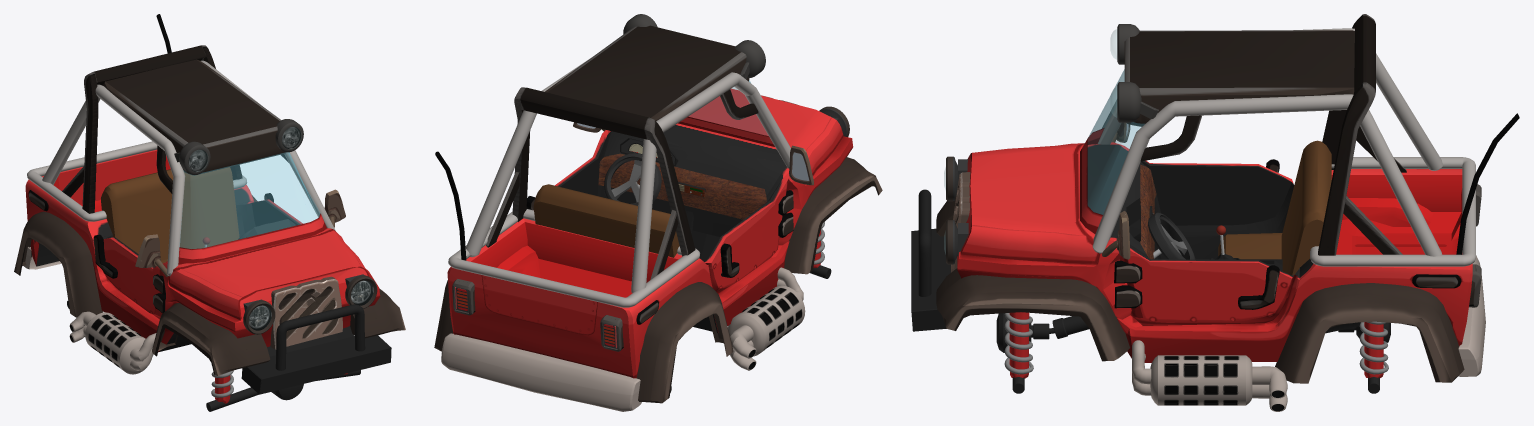
The model's file is Hill Climber Mk. 2 HCR2 3D model.fbx.
The picture shows the model from 3 angles, left to right: view 1: azimuth 30°, elevation 25°; view 2: azimuth 150°, elevation 25°; view 3: azimuth 270°, elevation 25°; orthographic projection. The views are drawn at different scales.
Parts seen in each view (by area): view 1: HCR2_HC2_Body, HCR2_HC2_FrontGlass, HCR2_HC2_Roof, HCR2_HC2_Details, HCR2_HC2_Seat, HCR2_HC2_Mask, HCR2_HC2_Cage2, HCR2_HC2_Chassis, HCR2_HC2_Cage, HCR2_HC2_Grl, HCR2_HC2_Exhausts, HCR2_HC2_FrontLights (+4 smaller); view 2: HCR2_HC2_Body, HCR2_HC2_Details, HCR2_HC2_Roof, HCR2_HC2_Cage2, HCR2_HC2_Cage, HCR2_HC2_Rear_Bumper, HCR2_HC2_Seat, HCR2_HC2_Mask, HCR2_HC2_Exhausts, HCR2_HC2_FrontGlass, HCR2_HC2_TailLights, HCR2_HC2_SteeringWheel (+3 smaller); view 3: HCR2_HC2_Body, HCR2_HC2_Details, HCR2_HC2_Roof, HCR2_HC2_Cage2, HCR2_HC2_Mask, HCR2_HC2_Cage, HCR2_HC2_Exhausts, HCR2_HC2_Seat, HCR2_HC2_FrontGlass, HCR2_HC2_Chassis, HCR2_HC2_Roof_Lights, HCR2_HC2_Rear_Bumper (+11 smaller).
Part boxes in pixels (left/top/right/bottom): HCR2_HC2_Body: left=25, top=149, right=380, bottom=351; HCR2_HC2_FrontGlass: left=178, top=152, right=326, bottom=264; HCR2_HC2_Roof: left=103, top=59, right=285, bottom=175; HCR2_HC2_Details: left=14, top=193, right=405, bottom=375; HCR2_HC2_Seat: left=101, top=167, right=239, bottom=263; HCR2_HC2_Mask: left=171, top=230, right=366, bottom=320; HCR2_HC2_Cage2: left=27, top=60, right=335, bottom=276; HCR2_HC2_Chassis: left=36, top=243, right=391, bottom=394; HCR2_HC2_Cage: left=62, top=45, right=288, bottom=213; HCR2_HC2_Grl: left=270, top=276, right=342, bottom=349; HCR2_HC2_Exhausts: left=69, top=311, right=156, bottom=374; HCR2_HC2_FrontLights: left=243, top=274, right=377, bottom=334; HCR2_HC2_Body: left=447, top=123, right=853, bottom=378; HCR2_HC2_Details: left=434, top=157, right=882, bottom=403; HCR2_HC2_Roof: left=545, top=25, right=749, bottom=120; HCR2_HC2_Cage2: left=448, top=59, right=790, bottom=307; HCR2_HC2_Cage: left=486, top=87, right=758, bottom=279; HCR2_HC2_Rear_Bumper: left=441, top=333, right=641, bottom=411; HCR2_HC2_Seat: left=533, top=184, right=679, bottom=257; HCR2_HC2_Mask: left=688, top=88, right=843, bottom=175; HCR2_HC2_Exhausts: left=728, top=267, right=805, bottom=370; HCR2_HC2_FrontGlass: left=678, top=80, right=774, bottom=146; HCR2_HC2_TailLights: left=452, top=279, right=623, bottom=351; HCR2_HC2_SteeringWheel: left=604, top=153, right=661, bottom=205; HCR2_HC2_Body: left=957, top=142, right=1472, bottom=362; HCR2_HC2_Details: left=936, top=159, right=1464, bottom=383; HCR2_HC2_Roof: left=1124, top=30, right=1354, bottom=126; HCR2_HC2_Cage2: left=1092, top=28, right=1475, bottom=266; HCR2_HC2_Mask: left=961, top=143, right=1093, bottom=264; HCR2_HC2_Cage: left=1140, top=14, right=1406, bottom=255; HCR2_HC2_Exhausts: left=1132, top=340, right=1287, bottom=411; HCR2_HC2_Seat: left=1218, top=140, right=1331, bottom=275; HCR2_HC2_FrontGlass: left=1080, top=69, right=1144, bottom=233; HCR2_HC2_Chassis: left=911, top=228, right=1360, bottom=333; HCR2_HC2_Roof_Lights: left=1110, top=24, right=1158, bottom=122; HCR2_HC2_Rear_Bumper: left=1458, top=255, right=1485, bottom=376.
Size of the model in its own units: 199 by 203 by 371.
